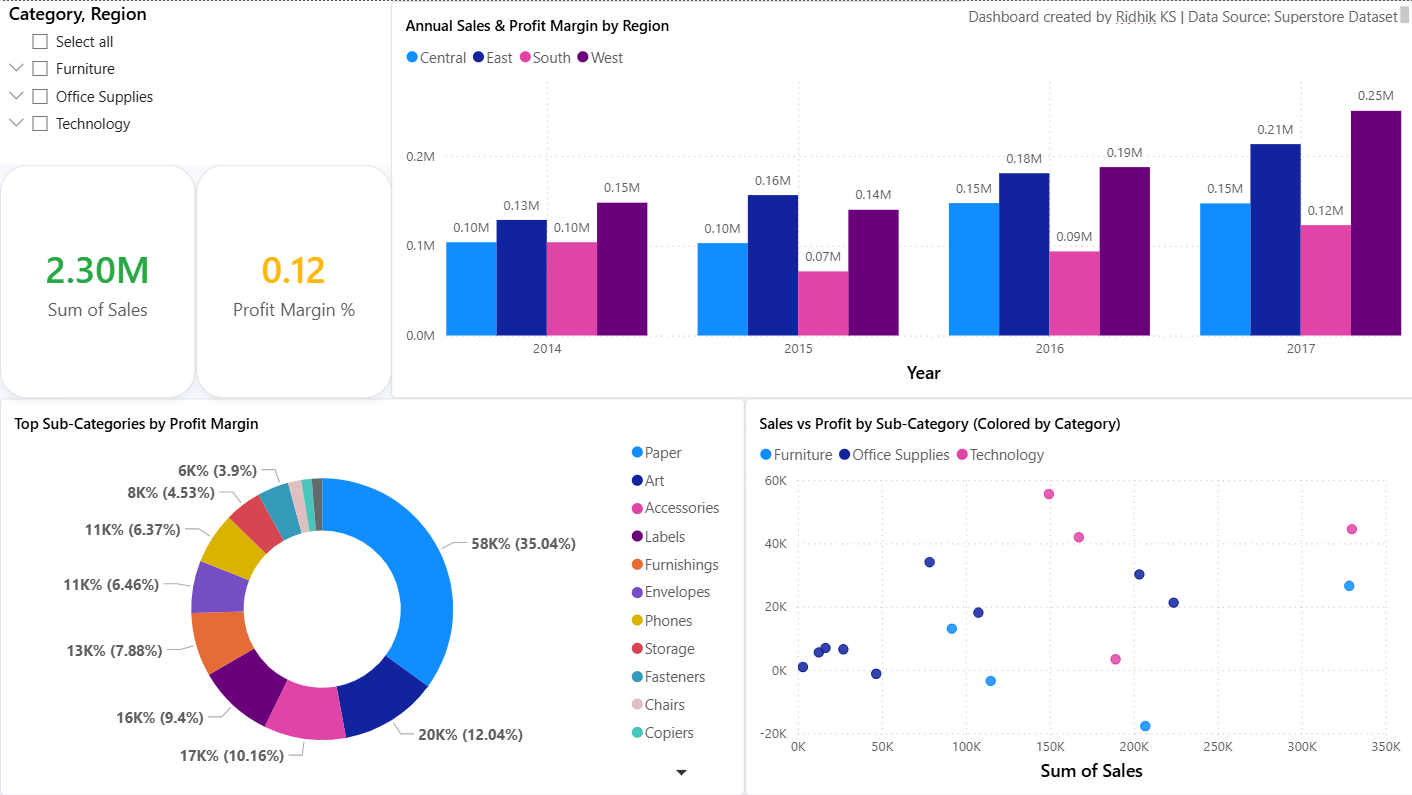

What the dashboard file says about the page in this screenshot:
{"tool":"powerbi","page":{"name":"Page 1","canvas":[1280,720],"ordinal":0},"visuals":[{"type":"clusteredColumnChart","title":"Annual Sales & Profit Margin by Region","fields":{"Category":["Sample - Superstore.Year"],"Y":["Sum(Sample - Superstore.Sales)"],"Series":["Sample - Superstore.Region"]},"box":[353.5,0,926.7,359.3],"z":0},{"type":"donutChart","title":"Top Sub-Categories by Profit Margin","fields":{"Category":["Sample - Superstore.Sub-Category"],"Y":["Sum(Sample - Superstore.Profit Margin)"]},"box":[0,359.3,673.3,359.3],"z":1},{"type":"scatterChart","title":"Sales vs Profit by Sub-Category (Colored by Category)","fields":{"X":["Sum(Sample - Superstore.Sales)"],"Y":["Sum(Sample - Superstore.Profit)"],"Series":["Sample - Superstore.Category"],"Category":["Sample - Superstore.Sub-Category"]},"box":[673.8,359.5,606.5,359.5],"z":2},{"type":"card","fields":{"Values":["Sum(Sample - Superstore.Sales)"]},"box":[0,148.2,177,211.3],"z":3},{"type":"card","fields":{"Values":["Sample - Superstore.Profit Margin %"]},"box":[177,148.2,177,211.3],"z":4},{"type":"slicer","fields":{"Values":["Sample - Superstore.Category","Sample - Superstore.Region"]},"box":[0,0,353.5,147.7],"z":5},{"type":"textbox","box":[870.9,0,409.3,25.6],"z":6}]}

Visuals, with their boxes in screenshot pixels (x1, y1, x2, y2), scaled from the page's 1280x720 canvas onto the 1412x795 screenshot:
"Annual Sales & Profit Margin by Region" clusteredColumnChart: (390, 0, 1411, 397)
"Top Sub-Categories by Profit Margin" donutChart: (0, 397, 743, 793)
"Sales vs Profit by Sub-Category (Colored by Category)" scatterChart: (743, 397, 1411, 794)
card - Sum(Sample - Superstore.Sales): (0, 164, 195, 397)
card - Sample - Superstore.Profit Margin %: (195, 164, 391, 397)
slicer - Sample - Superstore.Category x Sample - Superstore.Region: (0, 0, 390, 163)
textbox: (961, 0, 1411, 28)
